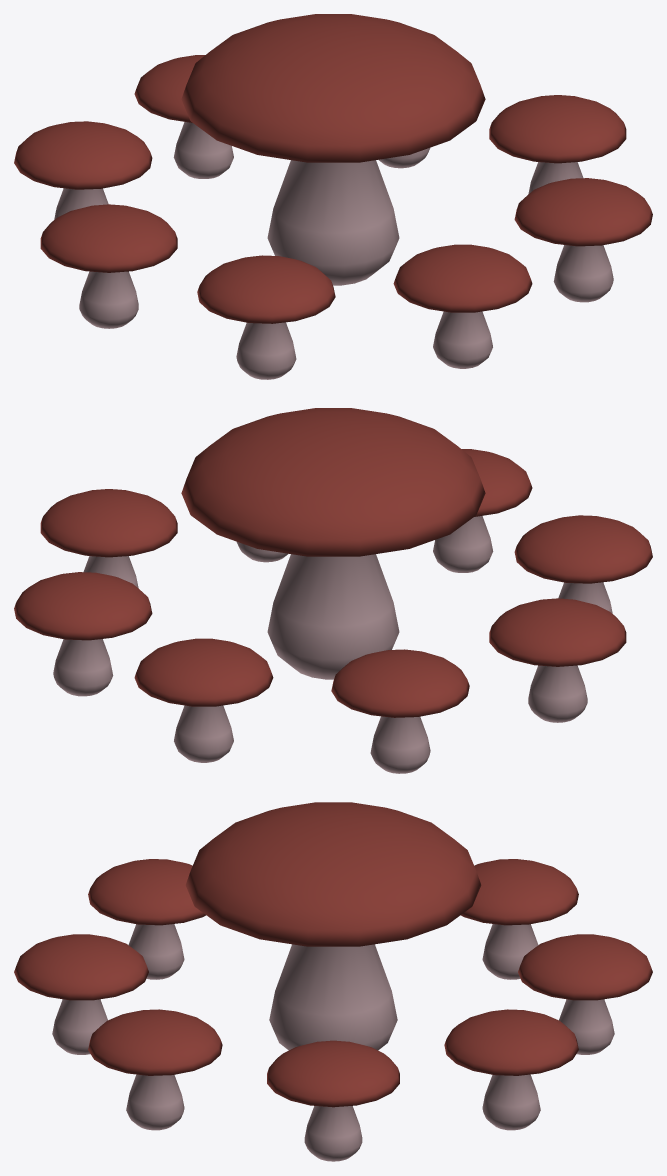
File: mushroom_shrine(1).fbx
The picture shows the model from 3 angles, top to bottom: view 1: azimuth 30°, elevation 25°; view 2: azimuth 150°, elevation 25°; view 3: azimuth 270°, elevation 25°; orthographic projection. The views are drawn at different scales.
Visible parts, largest first — view 1: shroomshrine; view 2: shroomshrine; view 3: shroomshrine.
Boxes of the visible parts, x1,y1,x2,y2 form: shroomshrine: (14, 14, 652, 379); shroomshrine: (14, 408, 652, 773); shroomshrine: (14, 802, 652, 1161).
Size of the model in its own units: 1010 by 383 by 1010.
